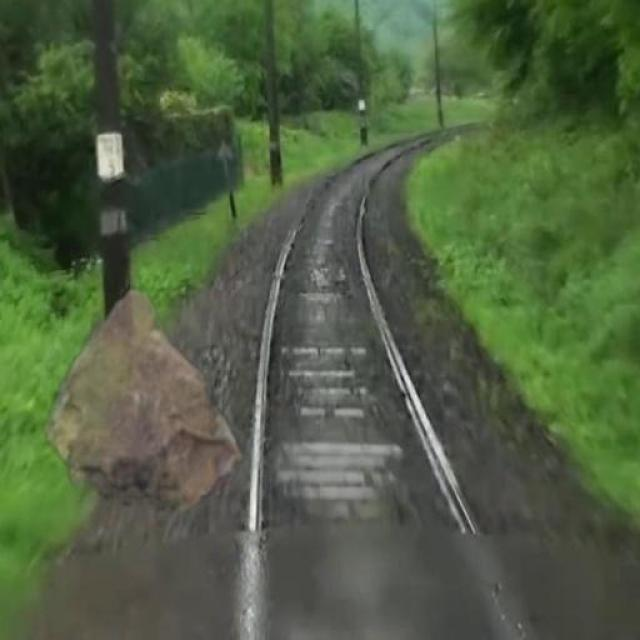Stone: (44, 291, 246, 504)
